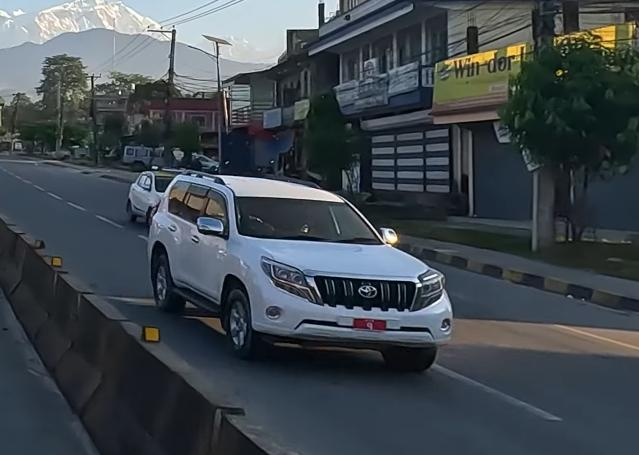SUV: (143, 165, 465, 378)
